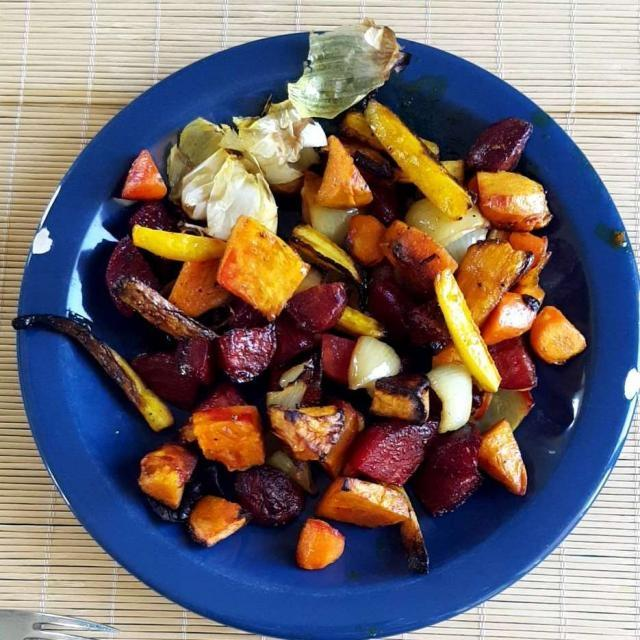mixed-vegetables: (24, 109, 529, 528)
sweet-potato: (136, 128, 525, 552)
